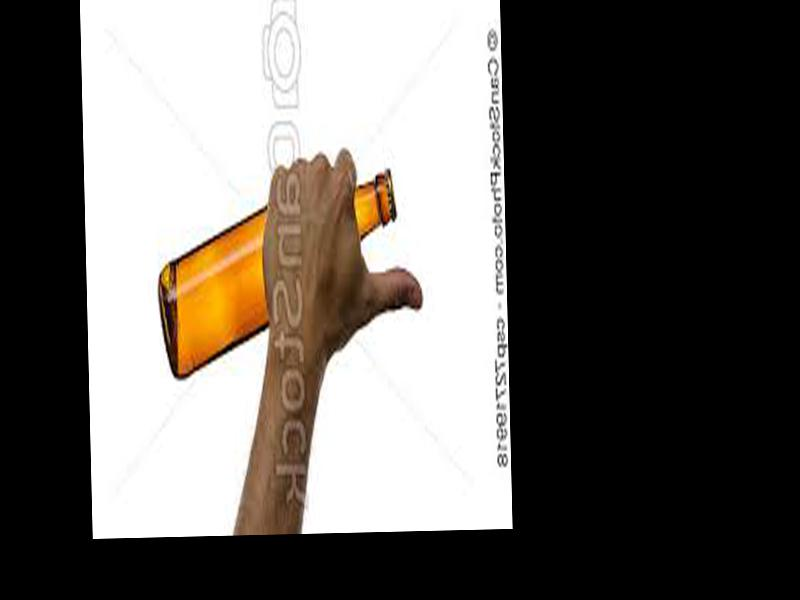Beer: (156, 172, 398, 381)
